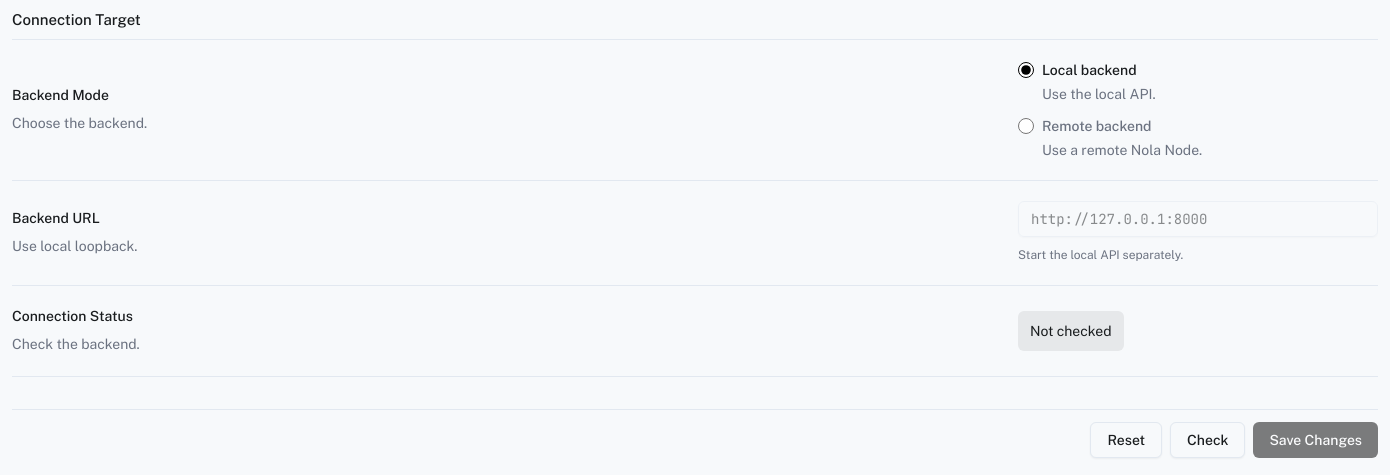
Test: ConnectionTab › checks health and API config through the selected backend
This screenshot has width=1390, height=475.
Click the button "Check": (1208, 440) [1170, 422, 1245, 458]
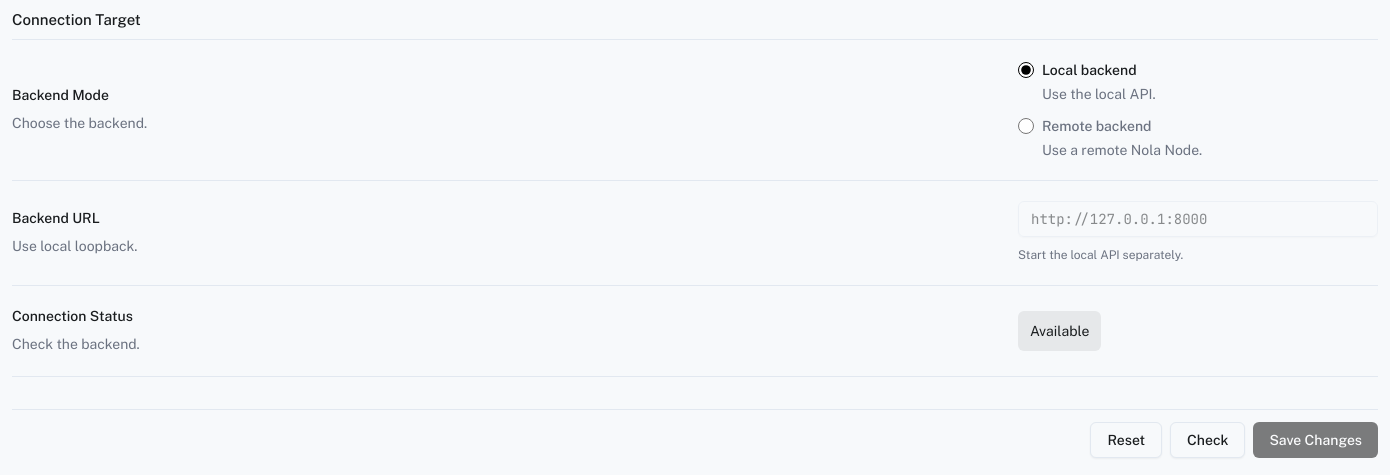
Check: the text "Available" is shown, box [1018, 311, 1101, 351]
